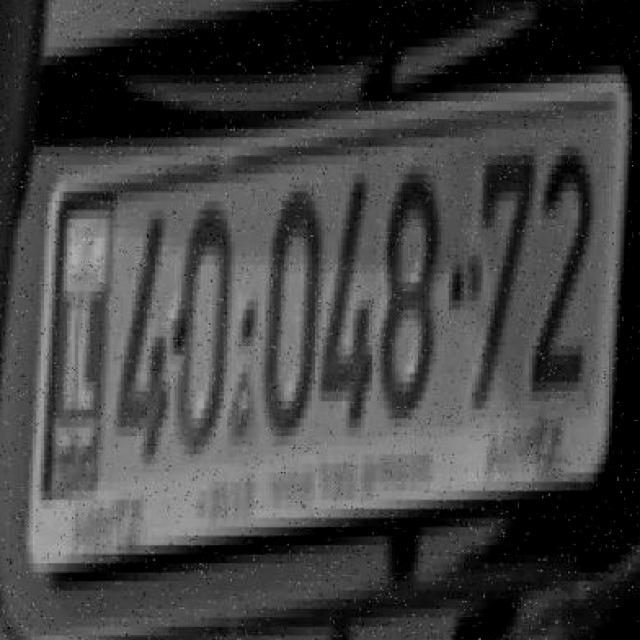licenseplate: (8, 38, 640, 588)
